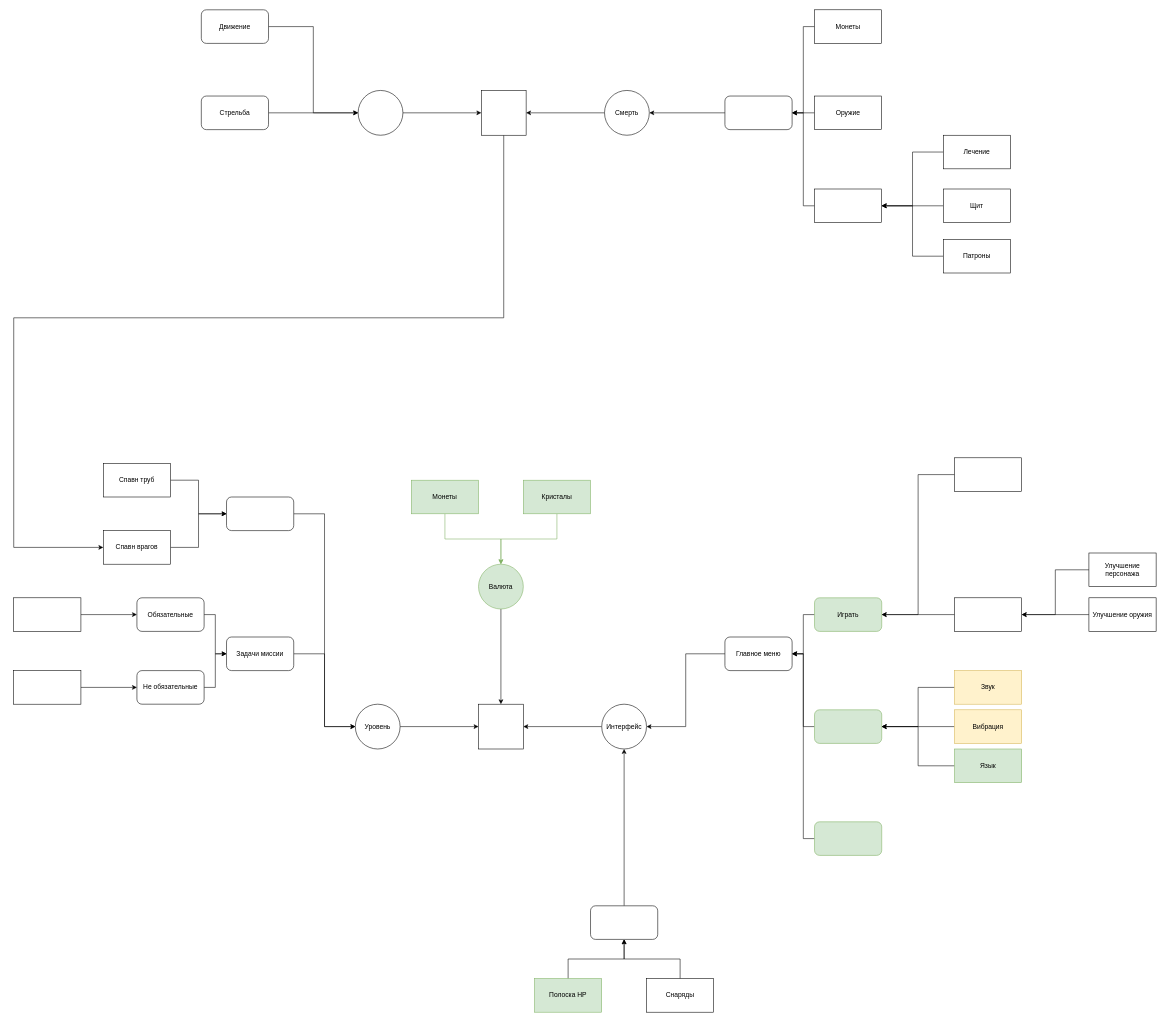
This 1166x1022 diagram has some shape labels left out. Each missing label, with the centre of its shape:
"FlappyShit" belongs at point (500, 726).
"Богусы" belongs at point (848, 205).
"Выпадение" belongs at point (758, 112).
"Выход" belongs at point (848, 838).
"Дойти до конца уровня" belongs at point (47, 614).
"Жизнь" belongs at point (380, 112).
"Игровой HUD" belongs at point (624, 922).
"Локация" belongs at point (260, 513).
"Настройки" belongs at point (848, 726).
"Окно улучшейни" belongs at point (988, 614).
"Поведение врага" belongs at point (503, 112).
"Собрать все звезды" belongs at point (47, 687).
"Список уровеней" belongs at point (988, 474).
